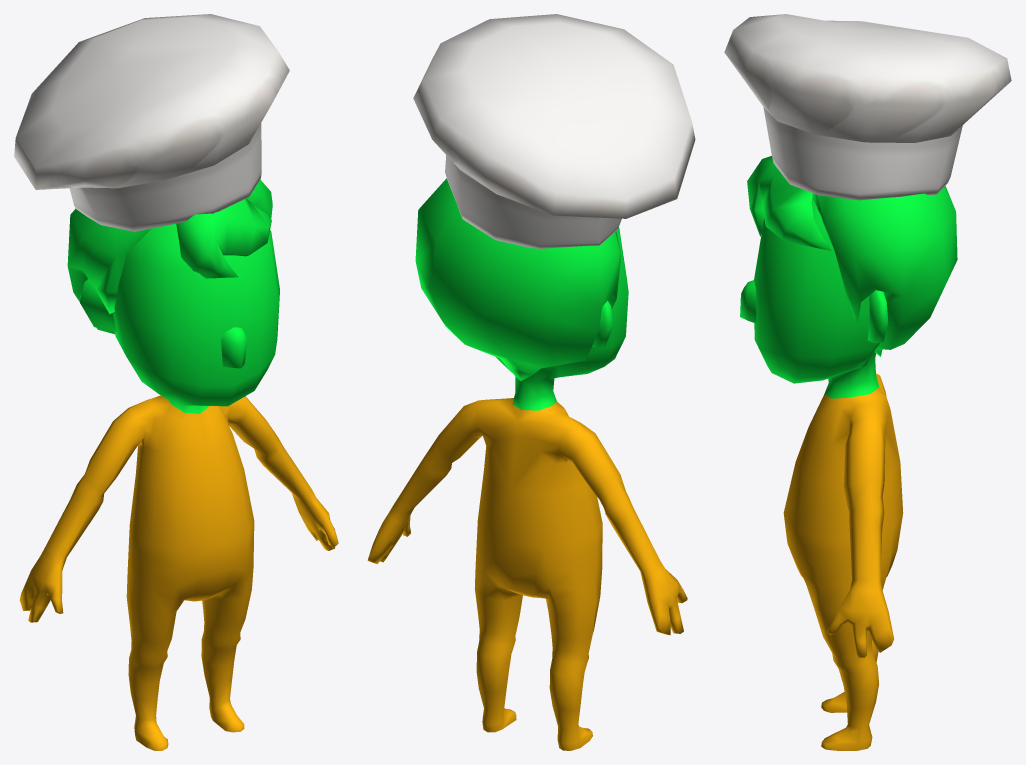
Rendered from common_people_male_1.FBX.
The picture shows the model from 3 angles, left to right: view 1: azimuth 30°, elevation 25°; view 2: azimuth 150°, elevation 25°; view 3: azimuth 270°, elevation 25°; orthographic projection. The views are drawn at different scales.
Parts seen in each view (by area): view 1: common_people_male_1; view 2: common_people_male_1; view 3: common_people_male_1.
Boxes of the visible parts, box(x1,y1,x2,y2) form: common_people_male_1: box(14, 14, 338, 750); common_people_male_1: box(367, 14, 695, 750); common_people_male_1: box(724, 14, 1011, 750).
Bounding box in the file's own units: 57.12 × 123 × 45.76.
